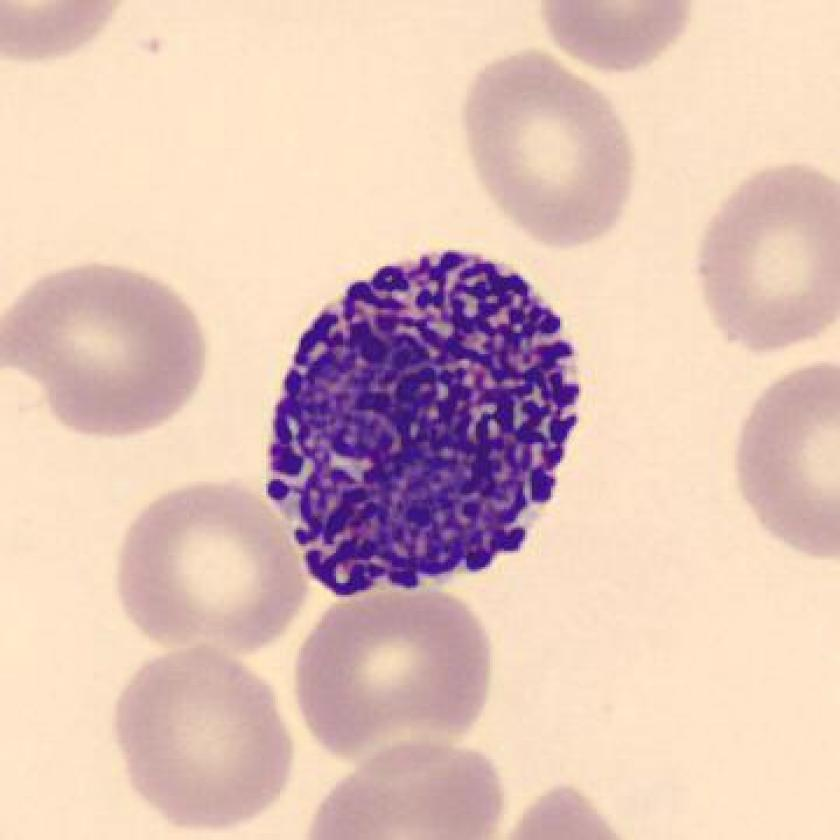basophil: (256, 244, 599, 607)
